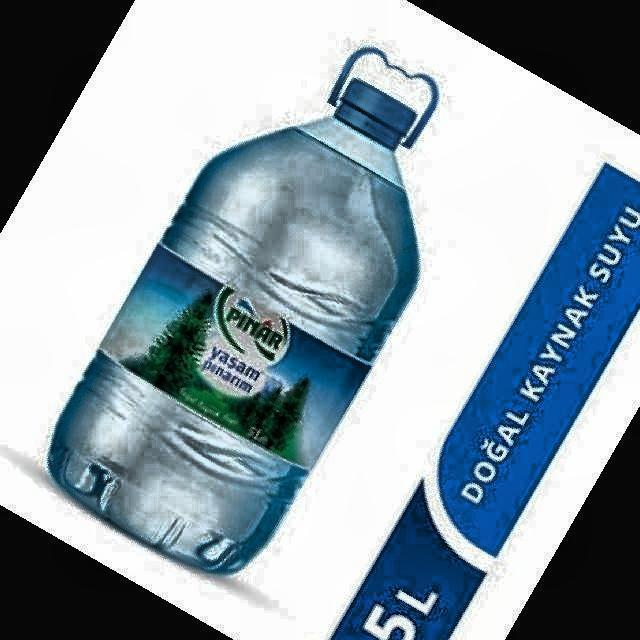plastic: (49, 49, 436, 572)
